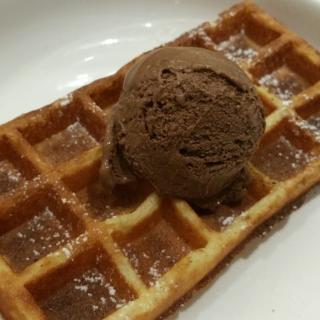Ice cream: (96, 48, 285, 210)
Waffle: (0, 0, 319, 319)
